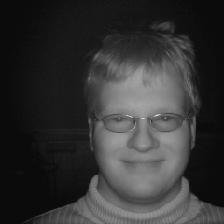happy: (69, 17, 212, 207)
